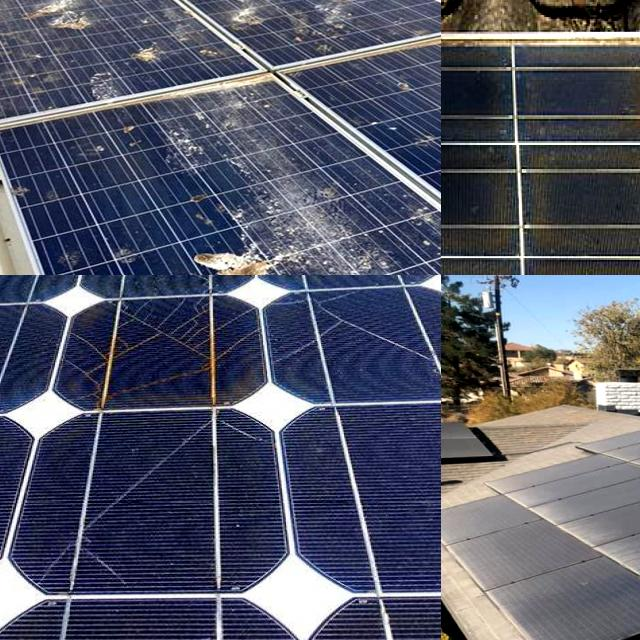bird: (155, 94, 293, 182), (186, 233, 294, 275), (24, 0, 114, 33), (210, 0, 277, 44), (122, 33, 182, 70), (47, 232, 98, 275), (112, 233, 162, 275), (318, 0, 374, 33)
dust: (551, 474, 640, 593), (476, 573, 605, 640), (441, 498, 523, 582), (592, 481, 640, 616), (582, 451, 640, 481)
shadow: (63, 275, 258, 434), (525, 140, 640, 260), (517, 48, 640, 135), (441, 141, 508, 255), (441, 146, 513, 249), (441, 33, 510, 138), (441, 43, 507, 133), (441, 46, 508, 133), (441, 152, 499, 243)
